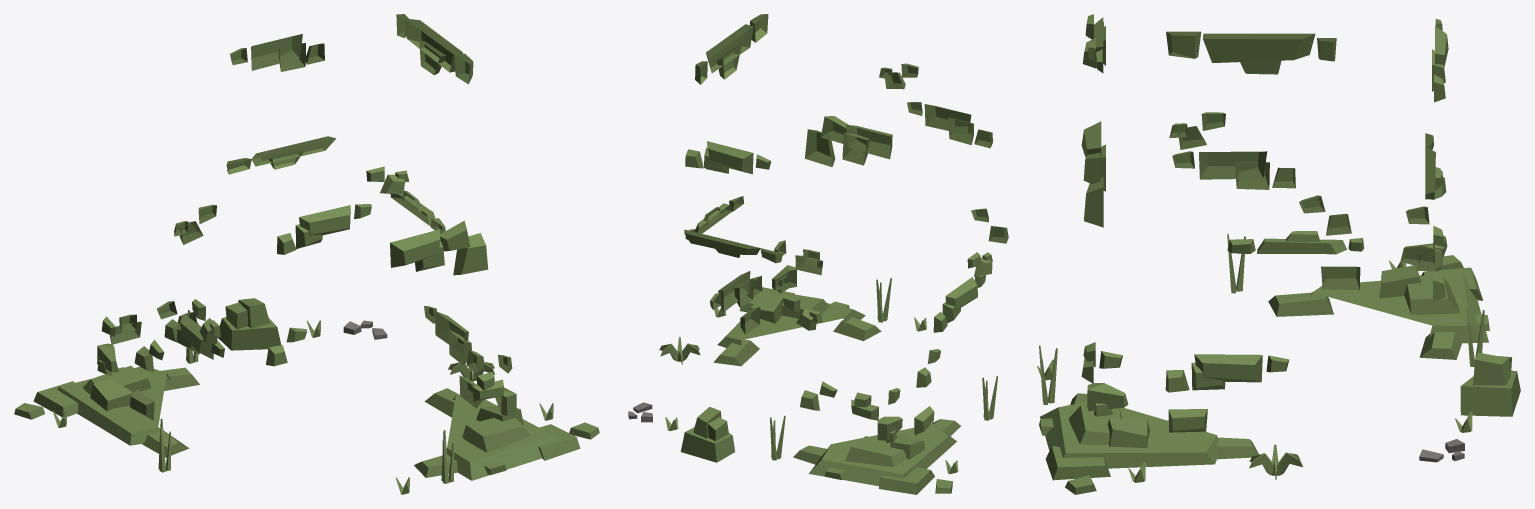
File: SA_Bld_OfficeWhite_Growth_02.gltf
3 renders of one model, left to right at view 1: azimuth 30°, elevation 25°; view 2: azimuth 150°, elevation 25°; view 3: azimuth 270°, elevation 25°, orthographic. The views are drawn at different scales.
Visible parts, largest first — view 1: SA_Bld_OfficeWhite_Growth_02; view 2: SA_Bld_OfficeWhite_Growth_02; view 3: SA_Bld_OfficeWhite_Growth_02.
Part boxes in pixels (x1=…): SA_Bld_OfficeWhite_Growth_02: x1=14, y1=14, x2=599, y2=494; SA_Bld_OfficeWhite_Growth_02: x1=628, y1=14, x2=1008, y2=494; SA_Bld_OfficeWhite_Growth_02: x1=1037, y1=14, x2=1520, y2=494.
Size of the model in its own units: 22.04 by 18.27 by 19.24.
Materials: 1 (1 with a texture image).
